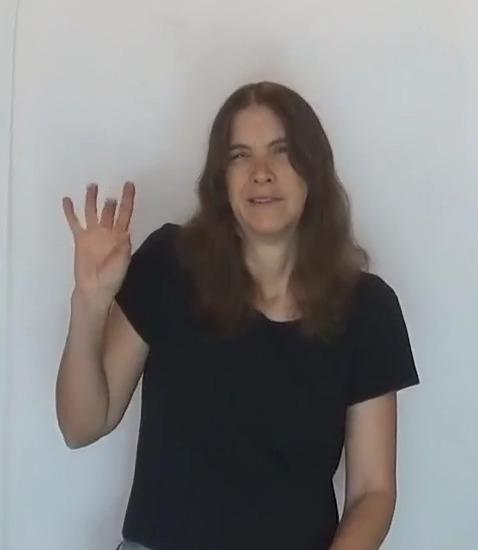Dolor: (25, 75, 425, 486)
